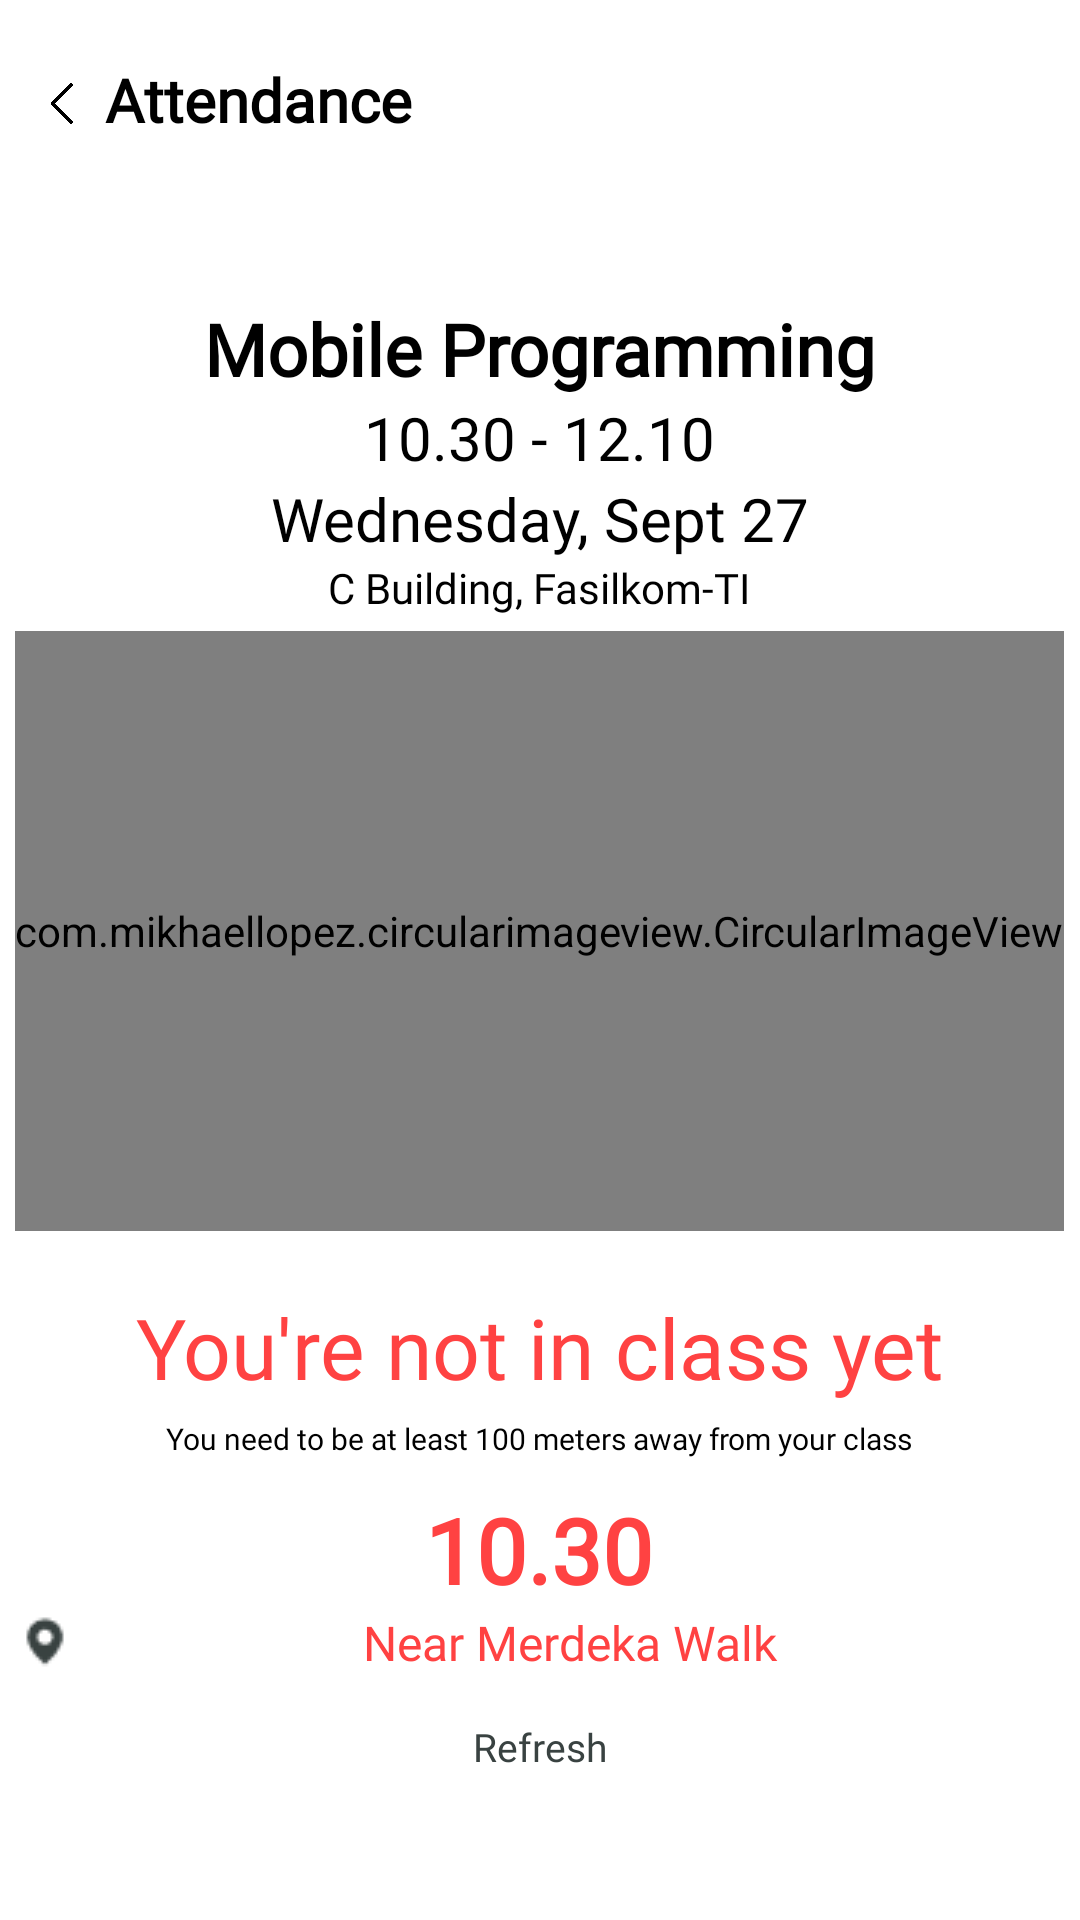

Screen size 1080w x 1920h. Icon name, then its center in pixels as point (x, y):
back: point (62, 103)
